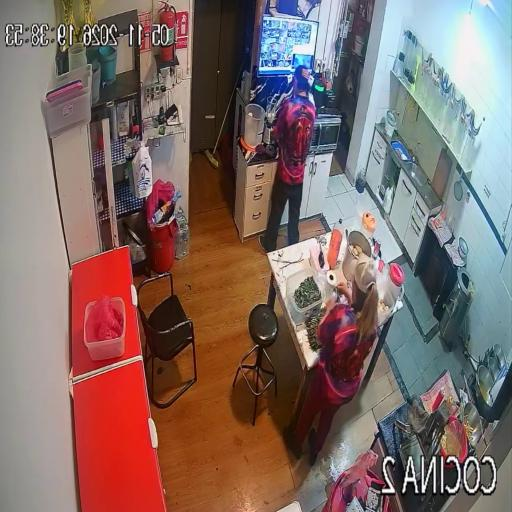Balde: (244, 104, 265, 147)
Envase Ketchup: (433, 388, 445, 410)
Envase Llajua: (447, 395, 453, 404)
Jarra1: (386, 263, 404, 301)
Jarra2: (360, 211, 376, 237)
Microondas: (309, 109, 346, 154)
Persona1: (262, 65, 316, 250)
Persona2: (285, 256, 378, 465)
Taper: (285, 262, 325, 324)
Taper2: (377, 274, 395, 325)
Taper4: (84, 297, 126, 360)
olla1: (342, 229, 372, 280)
